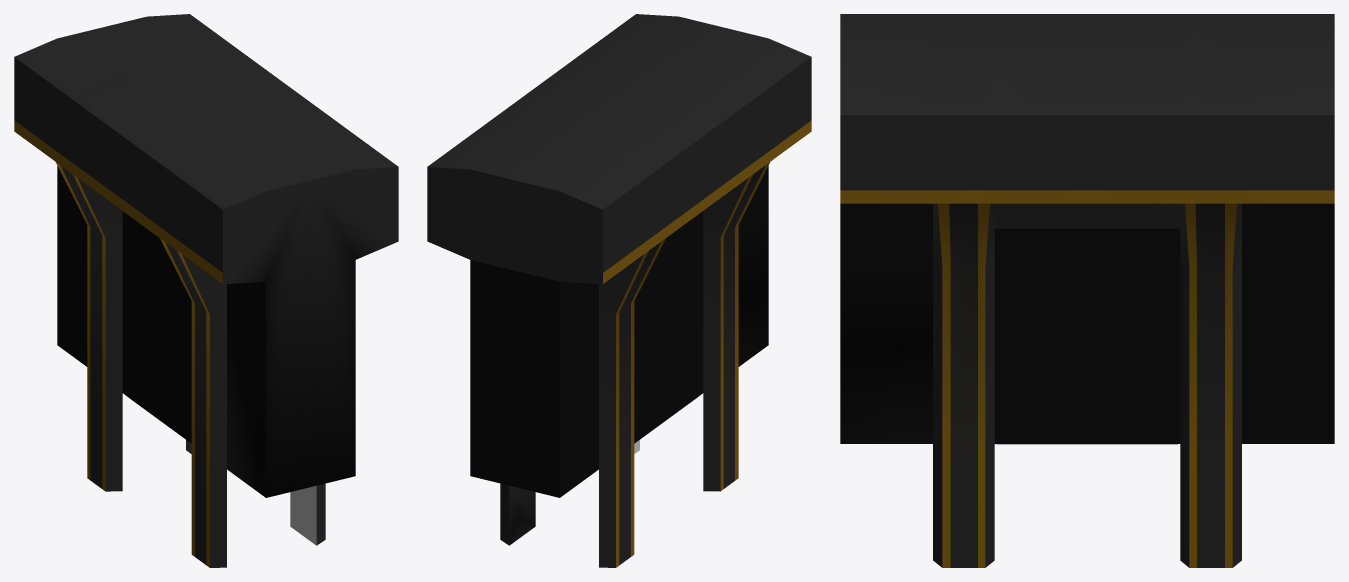
File: wall.fbx
The picture shows the model from 3 angles, left to right: view 1: azimuth 30°, elevation 25°; view 2: azimuth 150°, elevation 25°; view 3: azimuth 270°, elevation 25°; orthographic projection. The views are drawn at different scales.
Visible parts, largest first — view 1: Factory_CorridorNarrow_2; view 2: Factory_CorridorNarrow_2; view 3: Factory_CorridorNarrow_2.
Boxes of the visible parts, box(x1,y1,x2,y2) form: Factory_CorridorNarrow_2: box(14, 14, 398, 567); Factory_CorridorNarrow_2: box(427, 14, 811, 567); Factory_CorridorNarrow_2: box(840, 14, 1334, 567).
Bounding box in the file's own units: 194 × 428 × 400.
